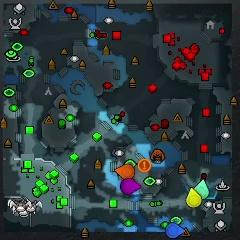p1: (165, 221, 184, 238)
p2: (194, 180, 208, 199)
p3: (121, 178, 140, 196)
p4: (186, 188, 202, 208)
p5: (116, 163, 135, 177), (138, 159, 152, 172)
